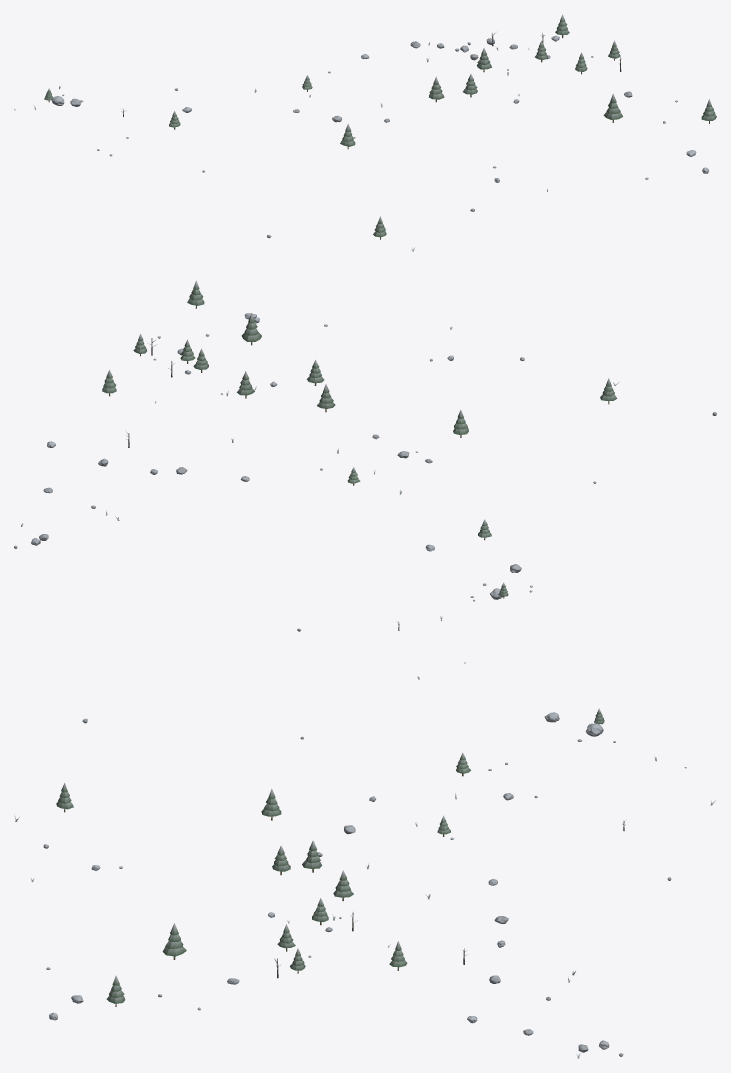
File: frost_land_scatter_c20_09.glb
3 views of the same model, one above another, from view 1: azimuth 30°, elevation 25°; view 2: azimuth 150°, elevation 25°; view 3: azimuth 270°, elevation 25° (orthographic). The views are drawn at different scales.
Parts seen in each view (by area): view 1: frost_land_scatter_c20_09; view 2: frost_land_scatter_c20_09; view 3: frost_land_scatter_c20_09.
Part boxes in pixels (x1,y1,x2,y2): frost_land_scatter_c20_09: [14, 14, 716, 251]; frost_land_scatter_c20_09: [14, 280, 716, 679]; frost_land_scatter_c20_09: [14, 708, 715, 1058].
Size of the model in its own units: 251 by 52.64 by 254.
